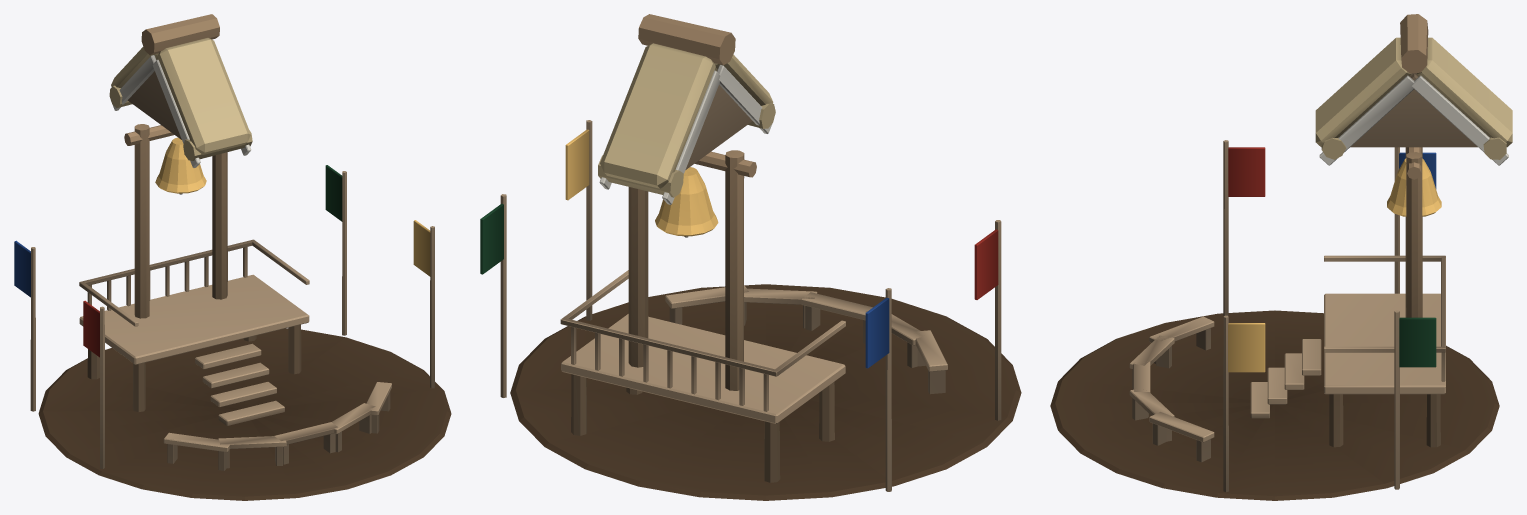
The model's file is bld_veche.glb.
3 views of the same model, side by side, from view 1: azimuth 30°, elevation 25°; view 2: azimuth 150°, elevation 25°; view 3: azimuth 270°, elevation 25° (orthographic). The views are drawn at different scales.
Parts seen in each view (by area): view 1: veche; view 2: veche; view 3: veche.
Boxes of the visible parts, x1,y1,x2,y2 form: veche: [14, 14, 451, 500]; veche: [480, 14, 1021, 500]; veche: [1050, 14, 1512, 500].
Bounding box in the file's own units: 1.84 × 1.69 × 1.89.
